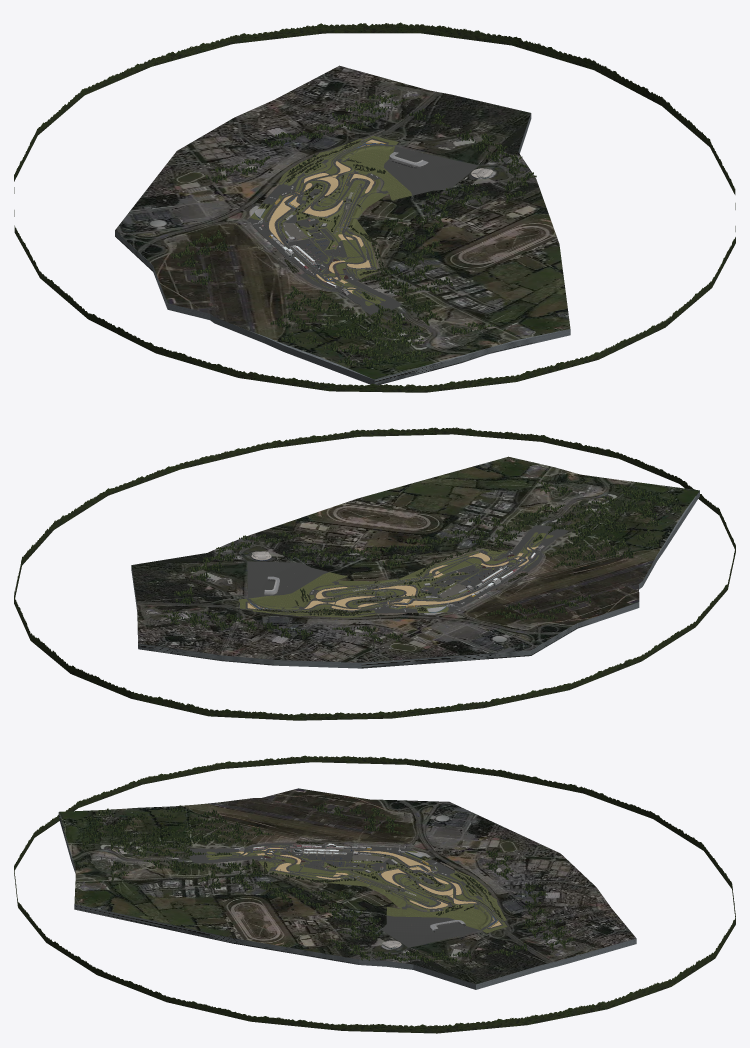
The model's file is bugatti.clean.glb.
3 renders of one model, top to bottom at view 1: azimuth 30°, elevation 25°; view 2: azimuth 150°, elevation 25°; view 3: azimuth 270°, elevation 25°, orthographic. The views are drawn at different scales.
Parts seen in each view (by area): view 1: Object_49, Object_90, Object_94, Object_82, Object_88, Object_19, Object_86, Object_93; view 2: Object_49, Object_90, Object_94, Object_82, Object_88, Object_19, Object_86, Object_93, Object_22, Object_99; view 3: Object_49, Object_90, Object_94, Object_82, Object_88, Object_19, Object_86, Object_93, Object_22, Object_99.
Boxes of the visible parts, left/top/right/bottom form: Object_49: left=115, top=65, right=570, bottom=379; Object_90: left=14, top=22, right=735, bottom=392; Object_94: left=171, top=94, right=536, bottom=368; Object_82: left=247, top=138, right=478, bottom=314; Object_88: left=250, top=136, right=411, bottom=305; Object_19: left=115, top=113, right=570, bottom=385; Object_86: left=269, top=139, right=384, bottom=293; Object_93: left=260, top=140, right=388, bottom=275; Object_49: left=131, top=456, right=699, bottom=662; Object_90: left=14, top=427, right=735, bottom=720; Object_94: left=160, top=481, right=683, bottom=642; Object_82: left=245, top=525, right=568, bottom=614; Object_88: left=238, top=532, right=553, bottom=617; Object_19: left=131, top=491, right=699, bottom=668; Object_86: left=247, top=546, right=537, bottom=610; Object_93: left=257, top=545, right=527, bottom=614; Object_22: left=245, top=538, right=556, bottom=615; Object_99: left=300, top=544, right=485, bottom=615; Object_49: left=59, top=788, right=636, bottom=984; Object_90: left=14, top=755, right=735, bottom=1033; Object_94: left=78, top=802, right=575, bottom=963; Object_82: left=188, top=843, right=503, bottom=947; Object_88: left=206, top=845, right=507, bottom=933; Object_19: left=58, top=796, right=636, bottom=989; Object_86: left=236, top=848, right=501, bottom=927; Object_93: left=263, top=840, right=502, bottom=919; Object_22: left=214, top=845, right=505, bottom=929; Object_99: left=261, top=860, right=491, bottom=915.
Size of what is drawn, in the model's own units: 4228 by 164 by 4700.
87 materials, 82 textured.
